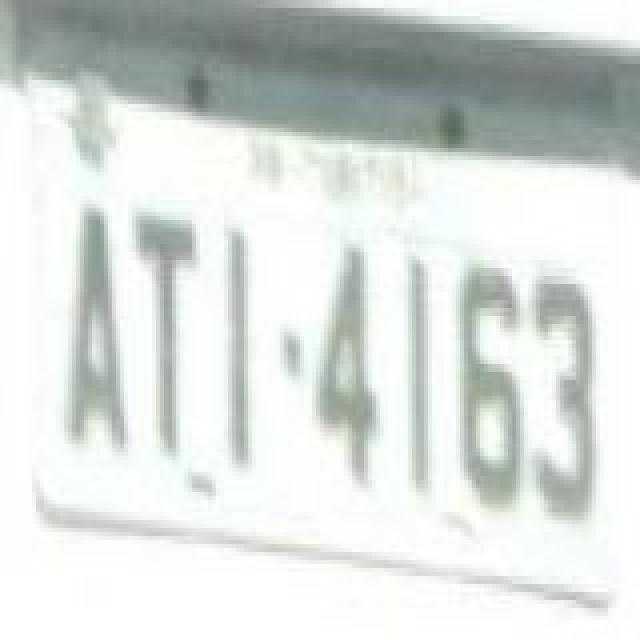1: (220, 224, 252, 480), (404, 250, 428, 502)
3: (524, 270, 596, 530)
4: (310, 242, 378, 494)
6: (452, 254, 524, 514)
A: (62, 198, 130, 458)
T: (130, 210, 198, 462)
